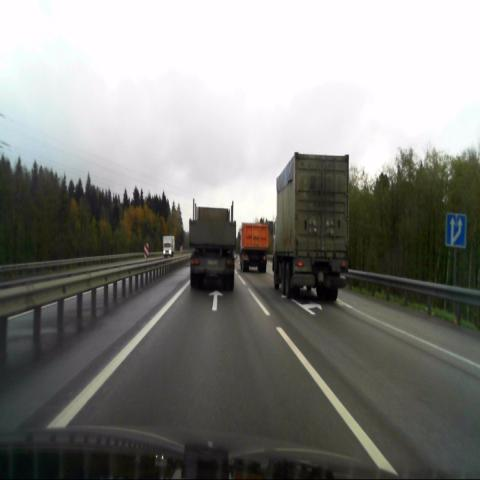5_15_3: (445, 213, 466, 248)
